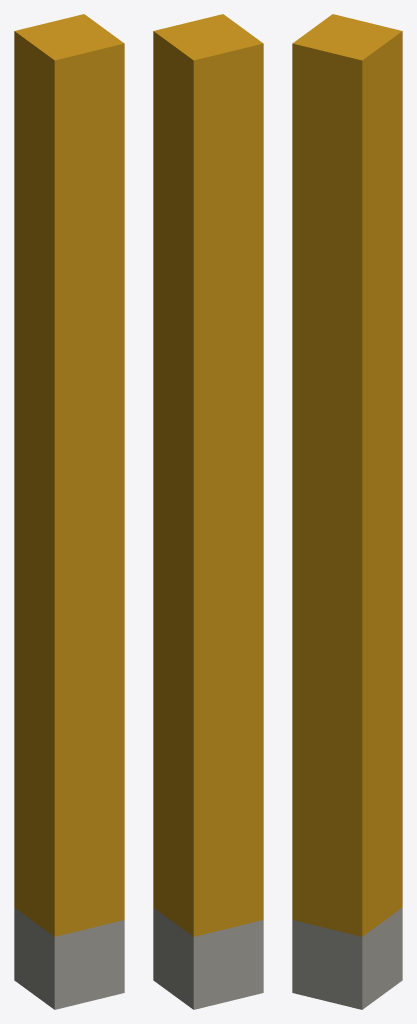
File: ws_corner.glb
3 renders of one model, left to right at view 1: azimuth 30°, elevation 25°; view 2: azimuth 210°, elevation 25°; view 3: azimuth 330°, elevation 25°, orthographic.
Parts seen in each view (by area): view 1: pier; view 2: pier; view 3: pier.
Boxes of the visible parts, box(x1,y1,x2,y2) form: pier: box(14, 14, 124, 1009); pier: box(153, 14, 263, 1009); pier: box(292, 14, 402, 1009).
Size of the model in its own units: 0.4 by 5.2 by 0.4.
